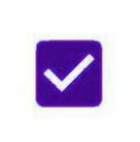CheckBox: (1, 1, 139, 141)
